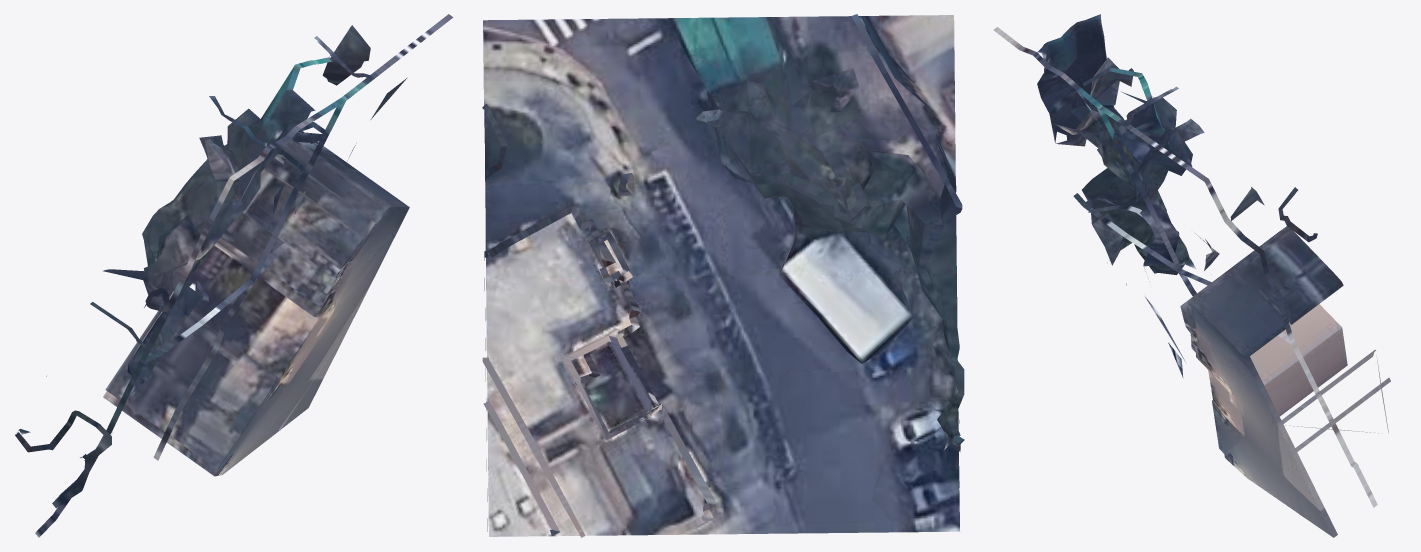
3 views of the same model, side by side, from view 1: azimuth 30°, elevation 25°; view 2: azimuth 150°, elevation 25°; view 3: azimuth 270°, elevation 25° (orthographic). The views are drawn at different scales.
Bounding box in the file's own units: 40.03 × 39.13 × 34.73.
Materials: 1 (1 with a texture image).
